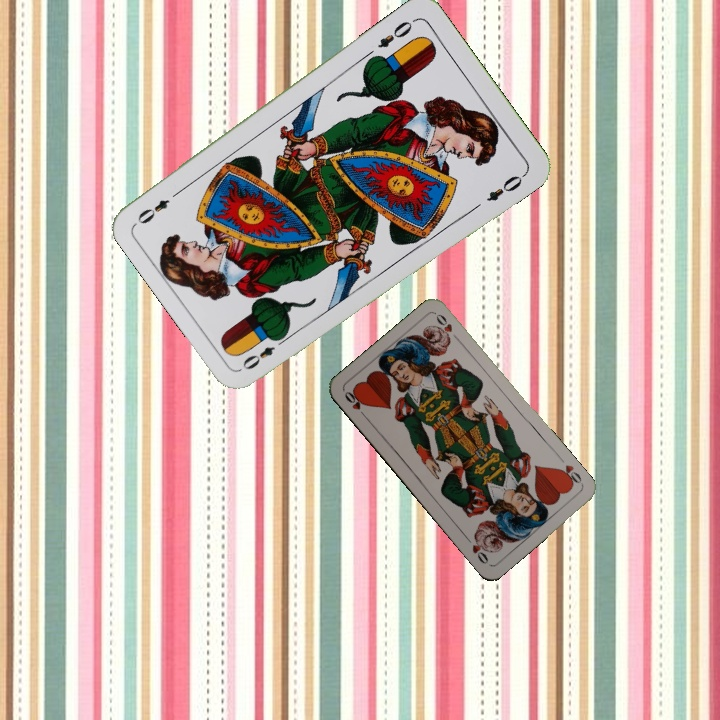EO: (238, 332, 290, 373), (373, 16, 415, 51)
HO: (340, 387, 370, 421), (554, 460, 585, 489)
